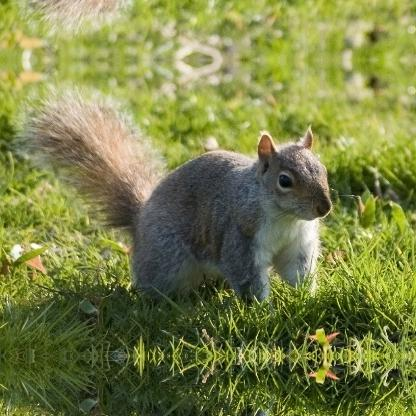Squirrel: (13, 86, 336, 314)
